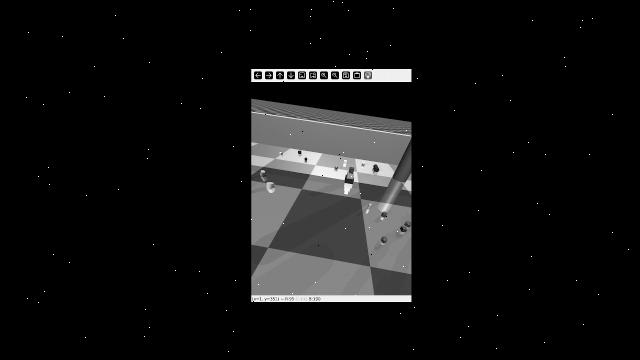cilindro: (392, 126, 411, 182), (265, 180, 274, 193), (380, 211, 389, 219), (372, 164, 381, 172), (258, 169, 266, 177), (365, 203, 373, 210)
cuadrado: (345, 172, 356, 178), (348, 167, 356, 174), (400, 226, 408, 233), (297, 149, 303, 155), (278, 152, 283, 157), (343, 160, 348, 164)
esfera: (379, 235, 388, 243), (405, 221, 411, 227), (333, 164, 340, 169), (304, 157, 309, 164), (361, 161, 367, 166)
rectangulo: (342, 175, 354, 183)
